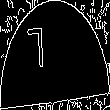L_S: (46, 28, 64, 82)
